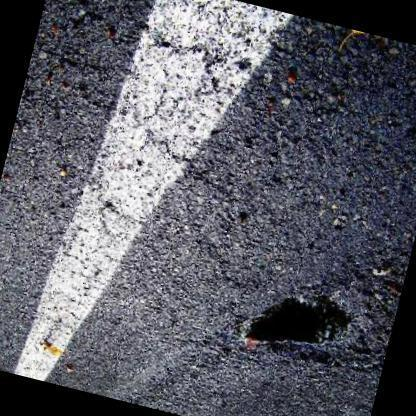pothole: (240, 273, 376, 365)
